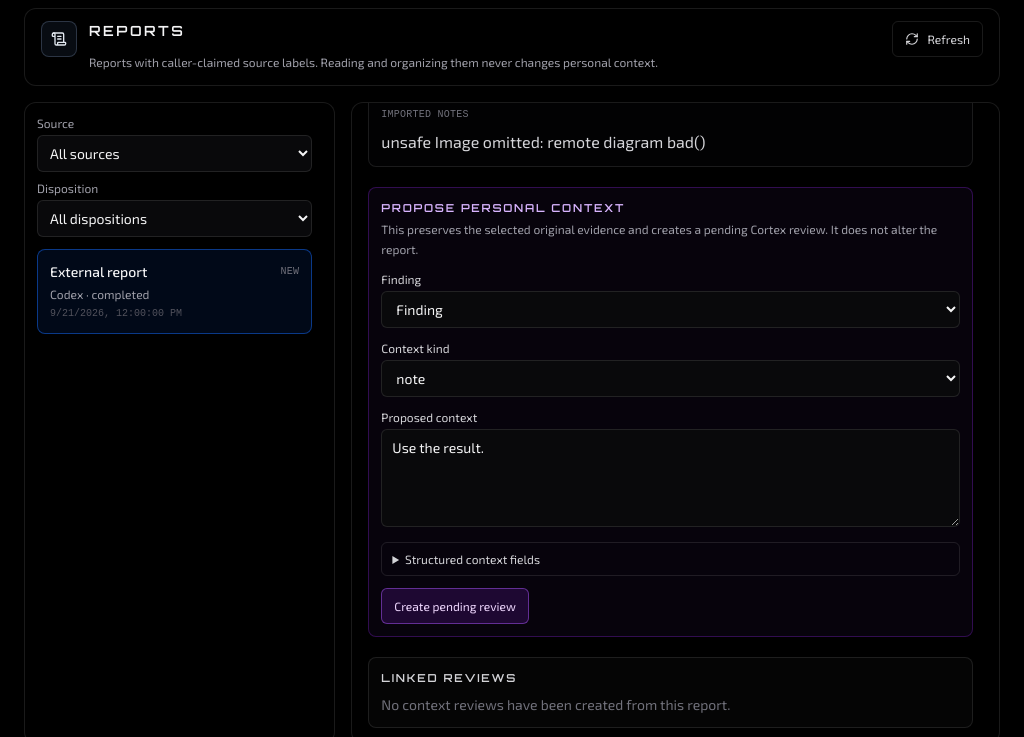
Test: ActivityReportsWorkspace › replaces the text and clears structured fields when the operator selects another finding
(page scrolled)
Click the heading "Structured context fields": [472, 559] box [405, 552, 540, 566]
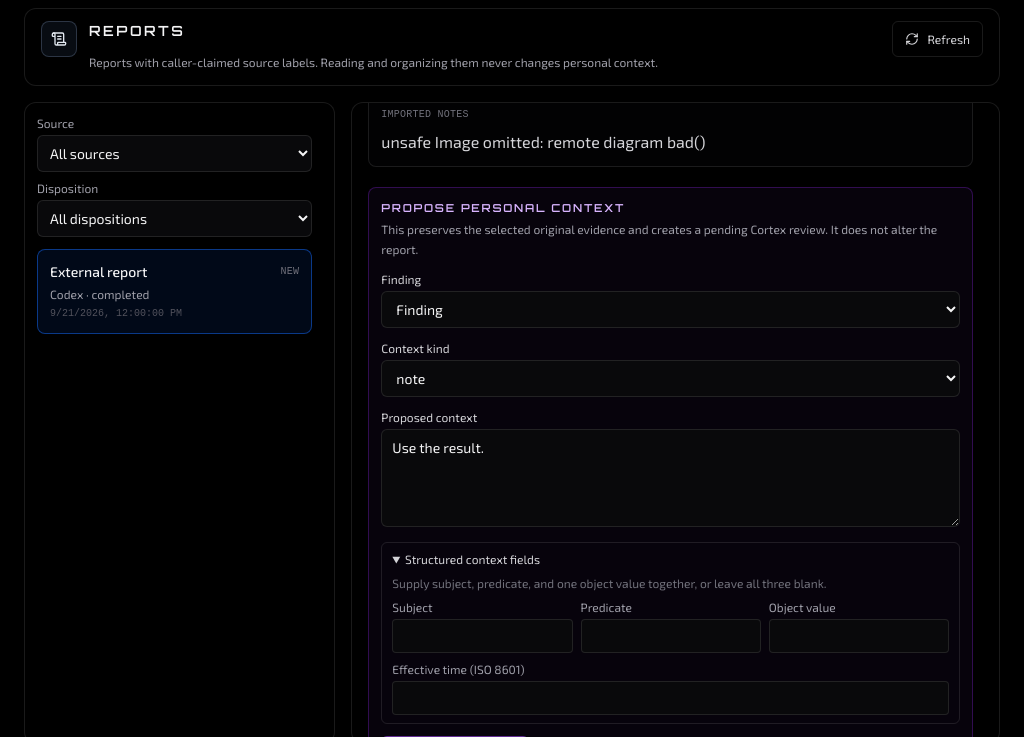
In the field labelled "Subject": [482, 636] box [392, 619, 572, 653], type "First finding subject"
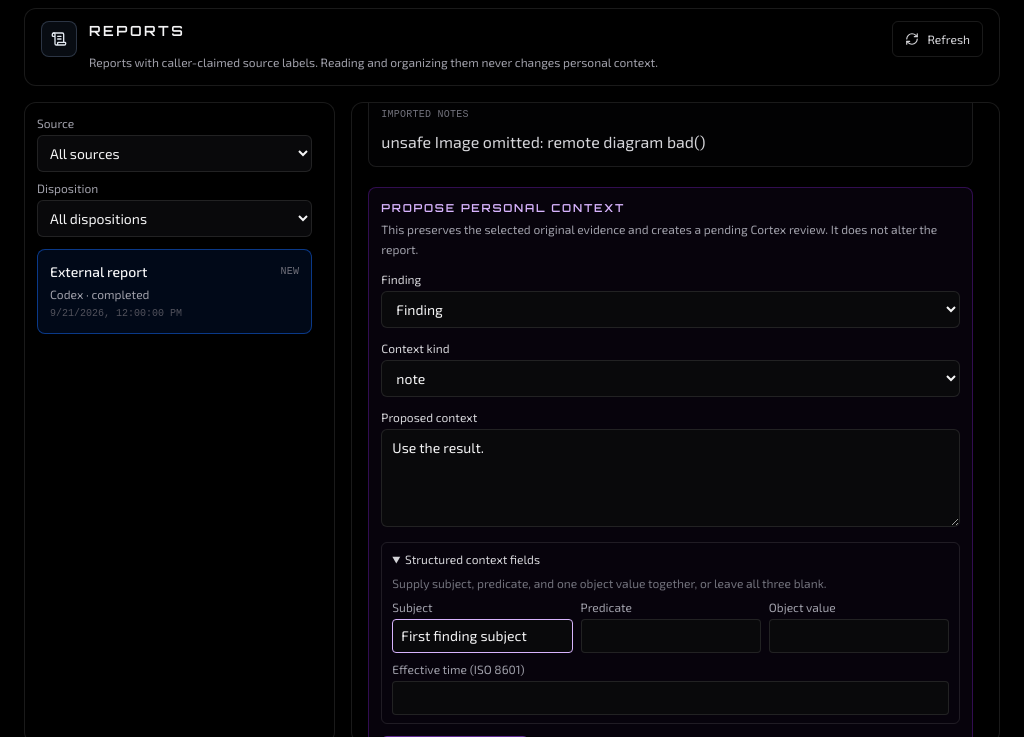
Select "Second finding" in the dropdown labelled "Finding": [671, 310] box [381, 291, 960, 328]
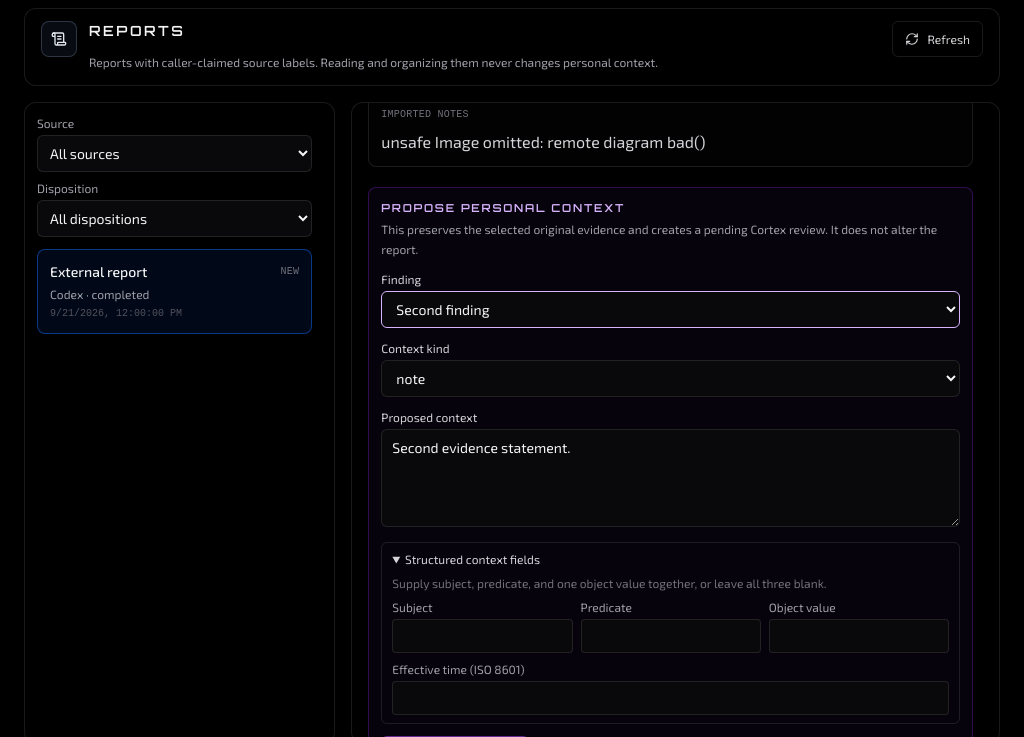
Check: the text box labelled "Proposed context" holds "Second evidence statement.", box [381, 429, 960, 527]
Check: the field labelled "Subject" is empty, box [392, 619, 572, 653]
